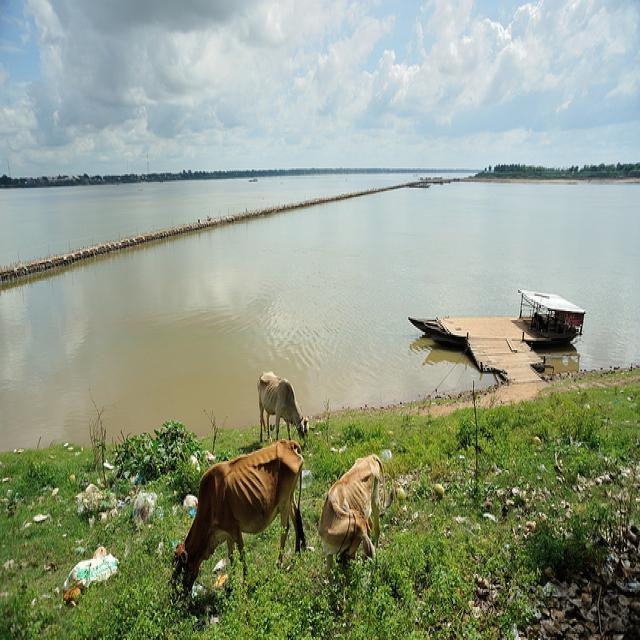cow: (169, 439, 305, 600), (315, 451, 385, 571), (257, 370, 309, 440)
